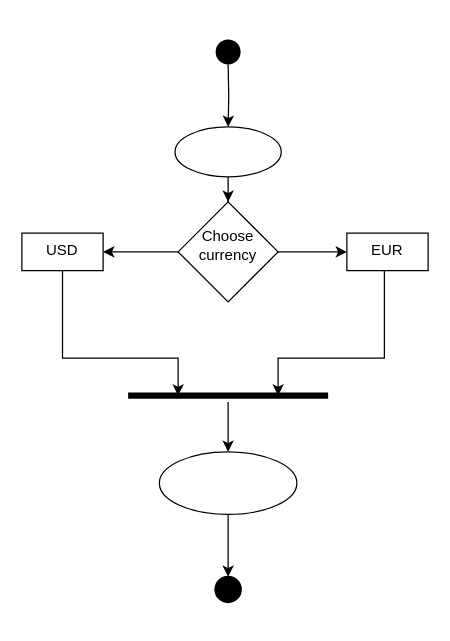
The diagram is 450 pixels wide and 641 high, and some of its shapes have lost their labels. The centre of each missing label's shape, as x and y in pixels:
"Click on Get Rates" belongs at (227,482).
"Input bitcoin amount" belongs at (227,151).
